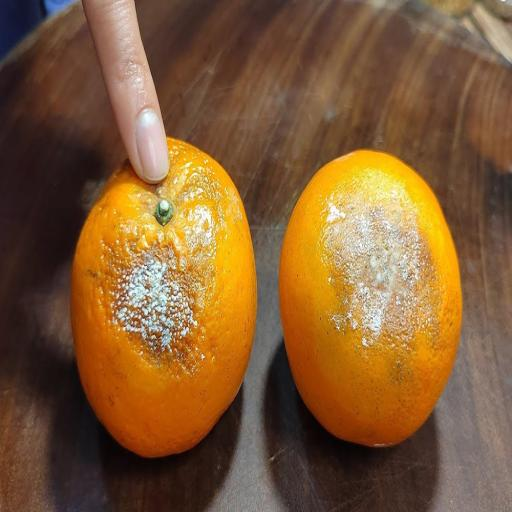Qua Hong: (279, 140, 484, 447), (279, 150, 461, 445)
